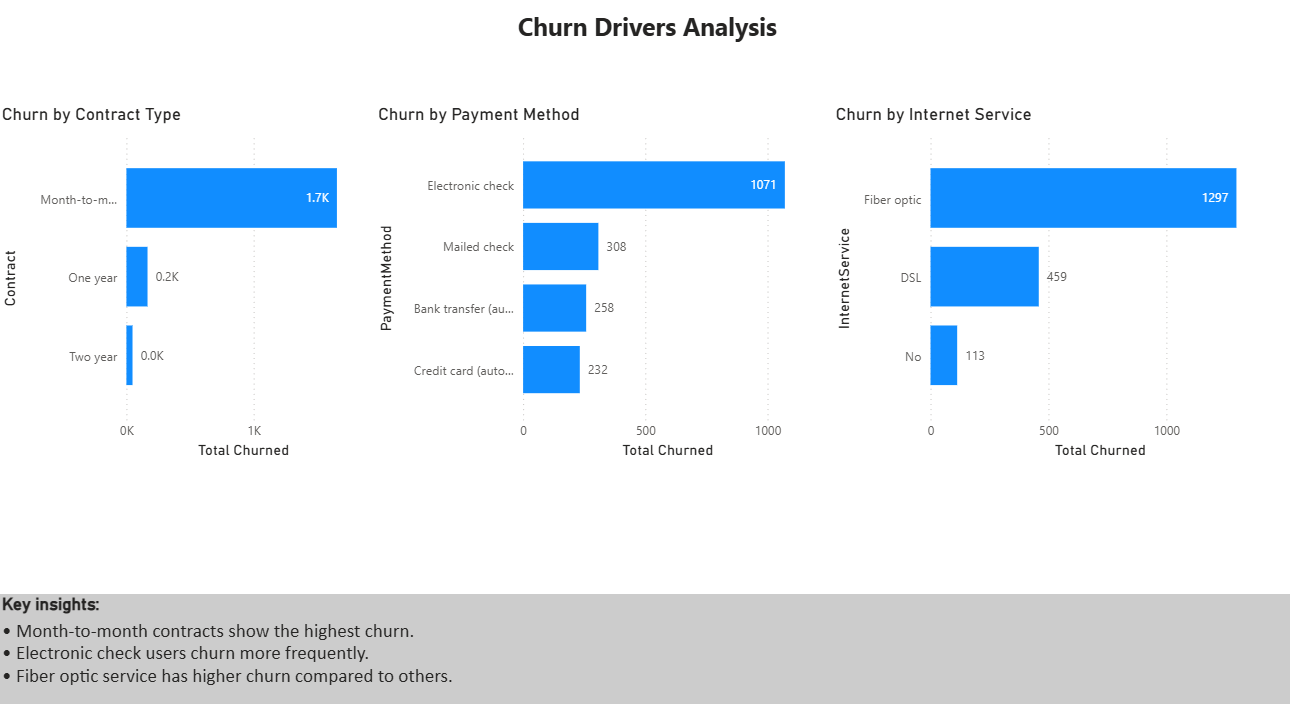

Layout of this report page (visuals, bound fields, positions):
{"tool":"powerbi","page":{"name":"Churn Drivers","canvas":[1280,720],"ordinal":1},"visuals":[{"type":"textbox","box":[0,16,1280,48],"z":0},{"type":"clusteredBarChart","title":"Churn by Contract Type","fields":{"Category":["Raw_data.Contract"],"Y":["Raw_data.Total Churned"]},"box":[0,112,368,352],"z":1},{"type":"clusteredBarChart","title":"Churn by Payment Method","fields":{"Category":["Raw_data.PaymentMethod"],"Y":["Raw_data.Total Churned"]},"box":[368,112,448,352],"z":2},{"type":"clusteredBarChart","title":"Churn by Internet Service","fields":{"Category":["Raw_data.InternetService"],"Y":["Raw_data.Total Churned"]},"box":[816,112,448,352],"z":3},{"type":"textbox","title":"Key insights:","box":[0,592,1280,128],"z":4}]}

Visuals, with their boxes on the page's 1280x720 design canvas (x1, y1, x2, y2). These are canvas units, not pixel positions in the 1290x704 screenshot, which may show the page scaled, cropped or inside an application window:
textbox: Rect(0, 16, 1280, 64)
"Churn by Contract Type" clusteredBarChart: Rect(0, 112, 368, 464)
"Churn by Payment Method" clusteredBarChart: Rect(368, 112, 816, 464)
"Churn by Internet Service" clusteredBarChart: Rect(816, 112, 1264, 464)
"Key insights:" textbox: Rect(0, 592, 1280, 720)
